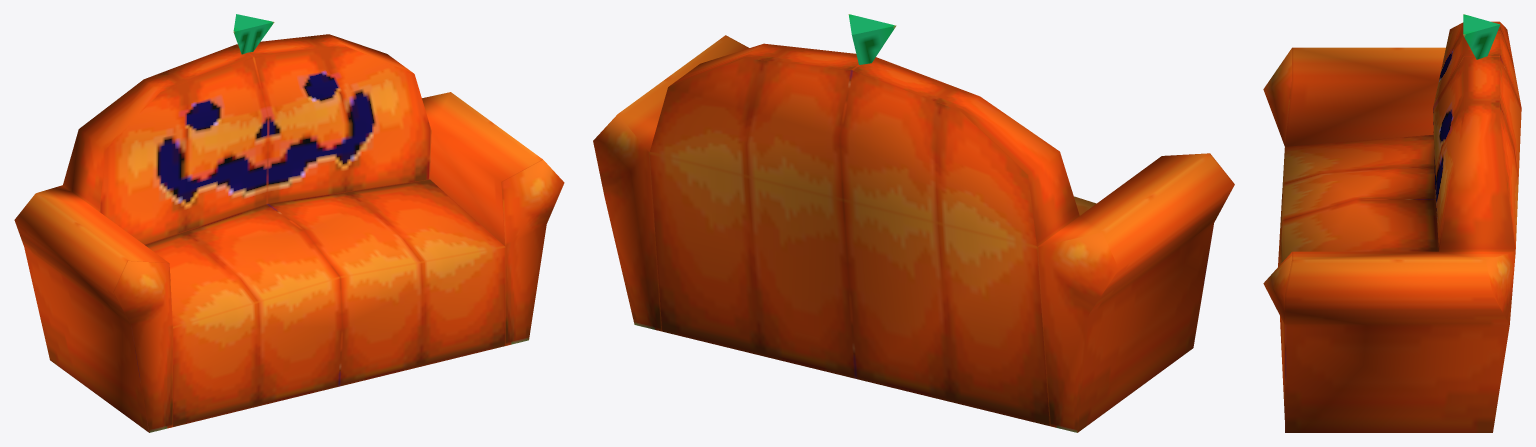
File: int_hwn_chairL.dae
3 views of the same model, side by side, from view 1: azimuth 30°, elevation 25°; view 2: azimuth 150°, elevation 25°; view 3: azimuth 270°, elevation 25° (orthographic). The views are drawn at different scales.
Visible parts, largest first — view 1: int_hwn_chairL; view 2: int_hwn_chairL; view 3: int_hwn_chairL.
Part boxes in pixels (x1,y1,x2,y2): int_hwn_chairL: [14, 14, 564, 432]; int_hwn_chairL: [593, 14, 1234, 432]; int_hwn_chairL: [1263, 14, 1521, 432].
Bounding box in the file's own units: 60.8 × 38.32 × 28.8.
1 material, 1 textured.
